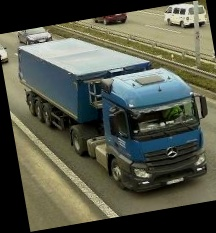truck: (15, 17, 216, 208)
